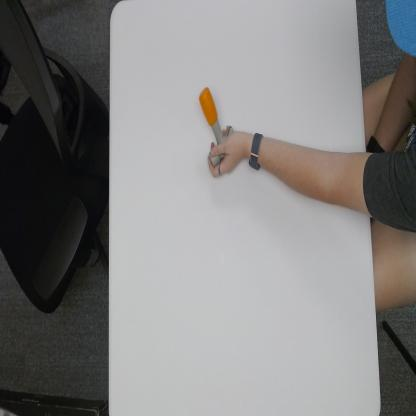Arm: (264, 132, 368, 214)
Hammer: (199, 85, 233, 166)
Hand: (209, 125, 247, 180)
